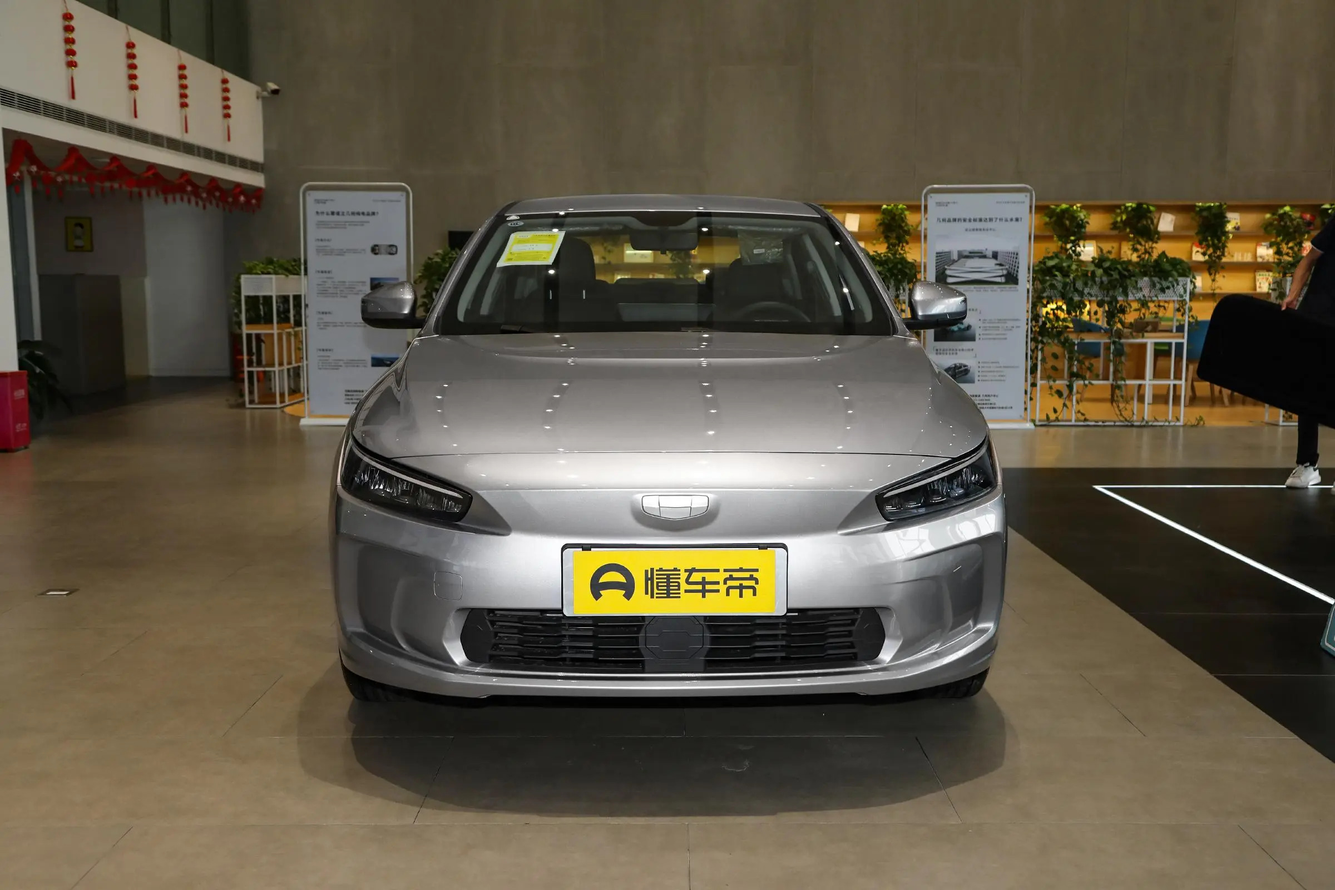GEOMETRY: (643, 496, 708, 518)
